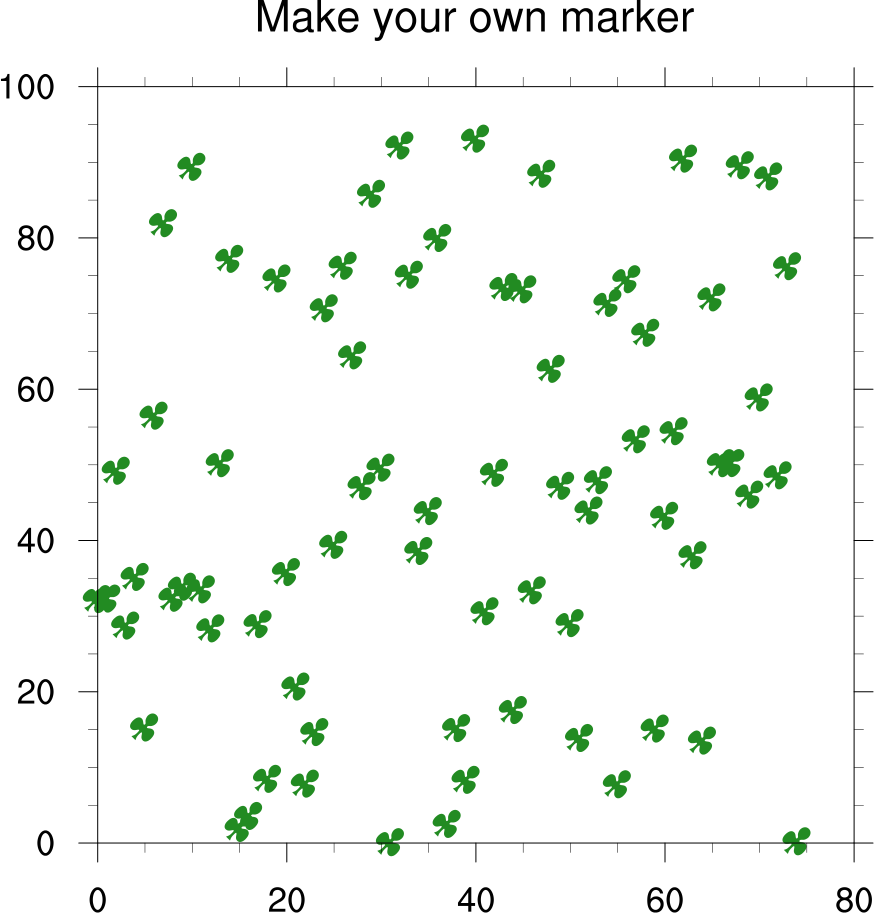canvas: (68, 101, 835, 868)
title: (193, 1, 707, 39)
x-labels: (76, 866, 874, 913)
y-labels: (1, 61, 59, 866)
